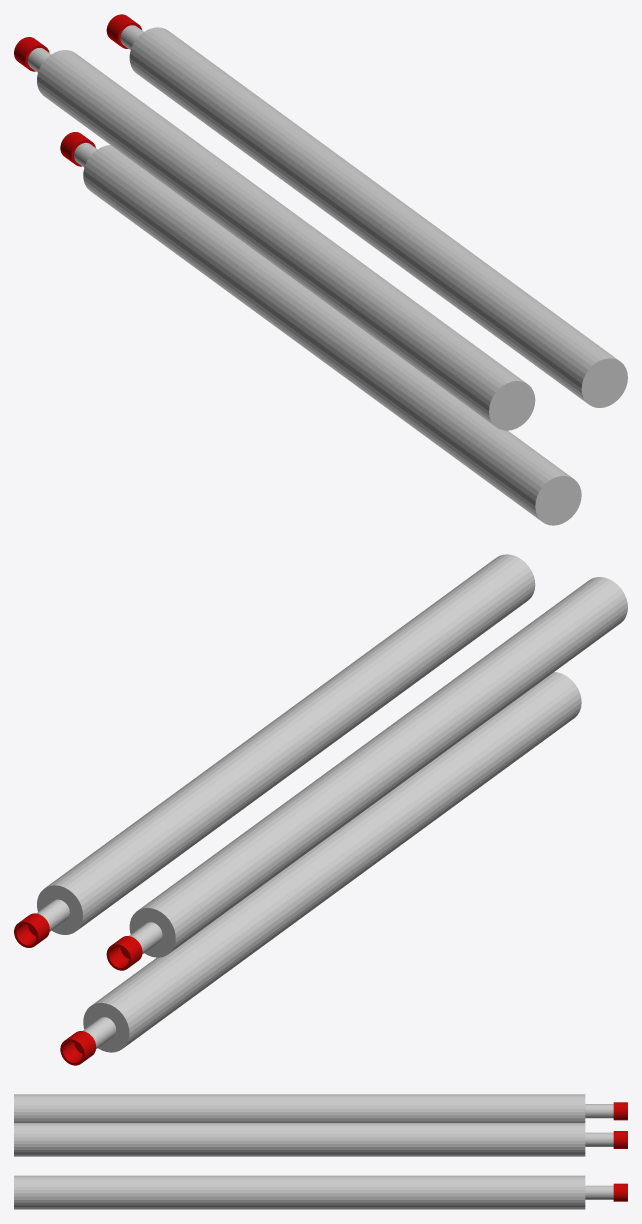
The model's file is minigun_laser_cylinders.obj.
The picture shows the model from 3 angles, top to bottom: view 1: azimuth 30°, elevation 25°; view 2: azimuth 150°, elevation 25°; view 3: azimuth 270°, elevation 25°; orthographic projection. The views are drawn at different scales.
Parts seen in each view (by area): view 1: Cylinder; view 2: Cylinder; view 3: Cylinder.
Part boxes in pixels (<box>): Cylinder: <box>14,14,627,525</box>; Cylinder: <box>14,554,627,1065</box>; Cylinder: <box>14,1094,627,1209</box>.
Size of the model in its own units: 0.8211 by 0.8734 by 4.97.
